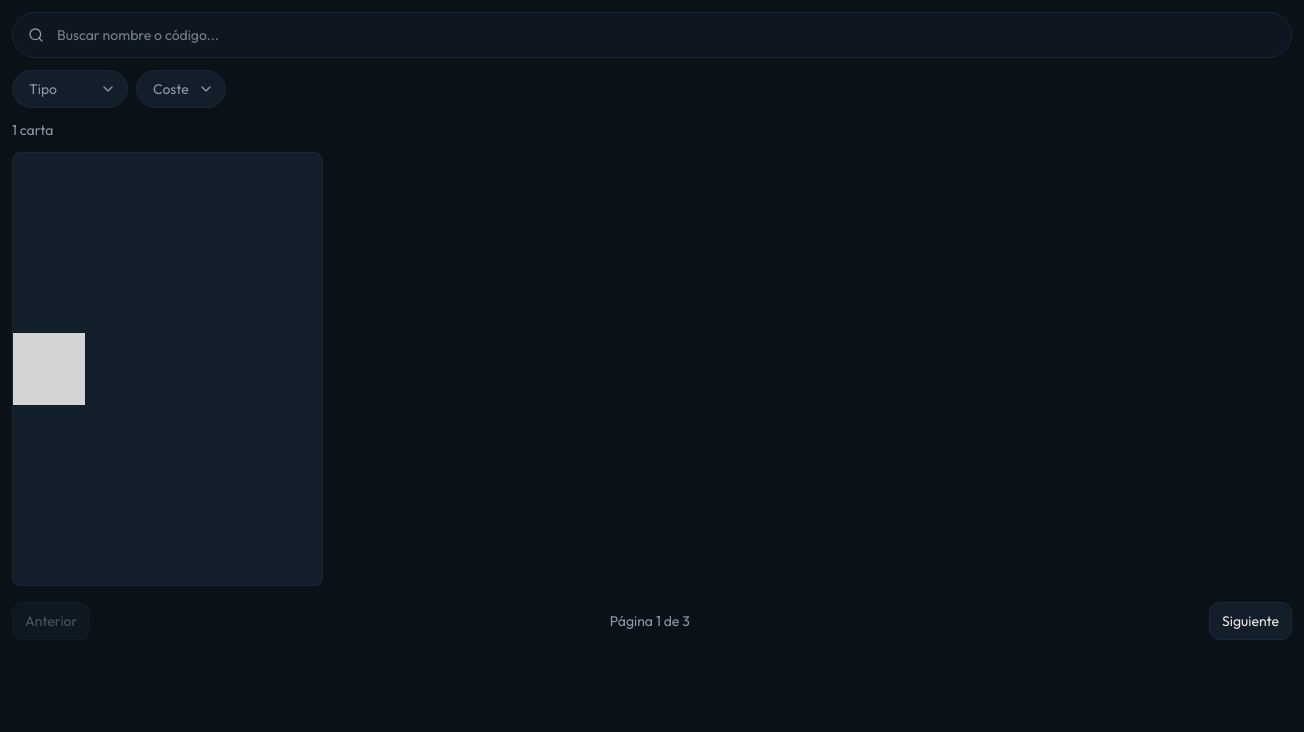
Test: CardCatalog › avanza a la página siguiente
Click the button "Siguiente" at (1251,621), box [1209,602,1292,640]
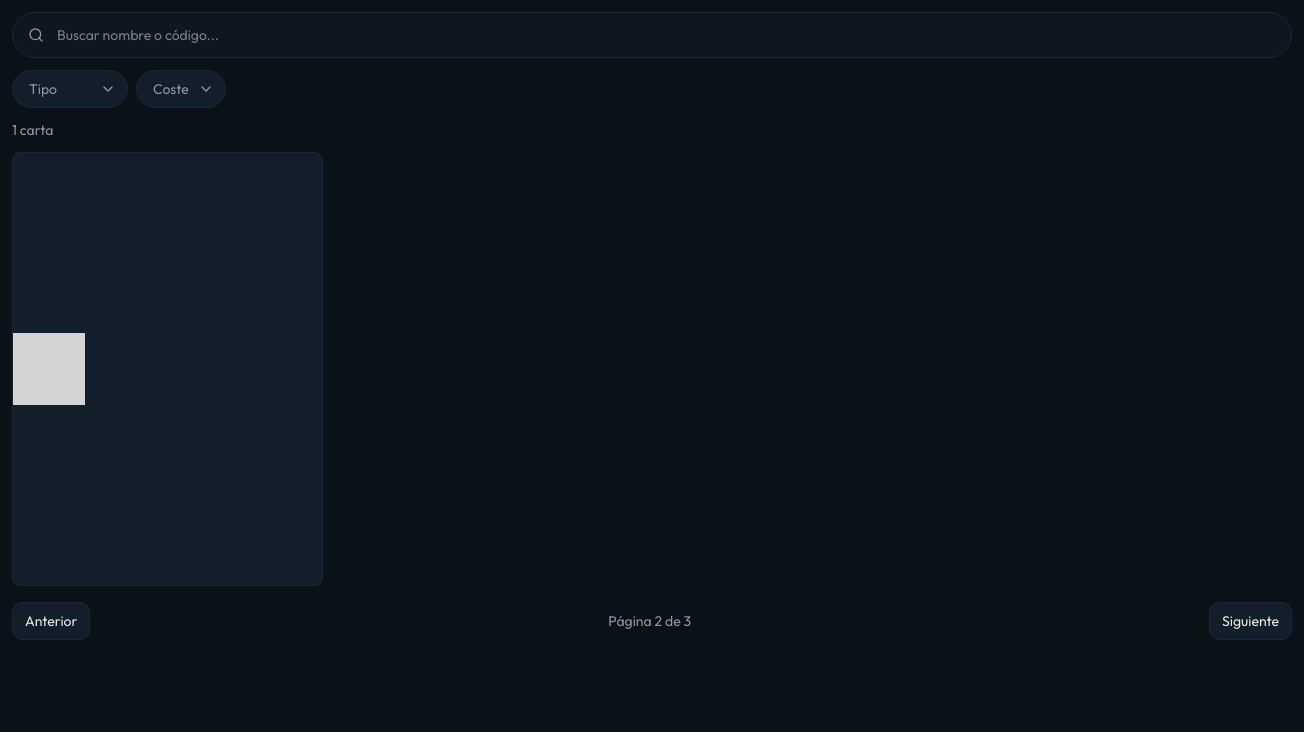
Expected: the text "Página 2 de 3" is shown, [608,611,691,631]
